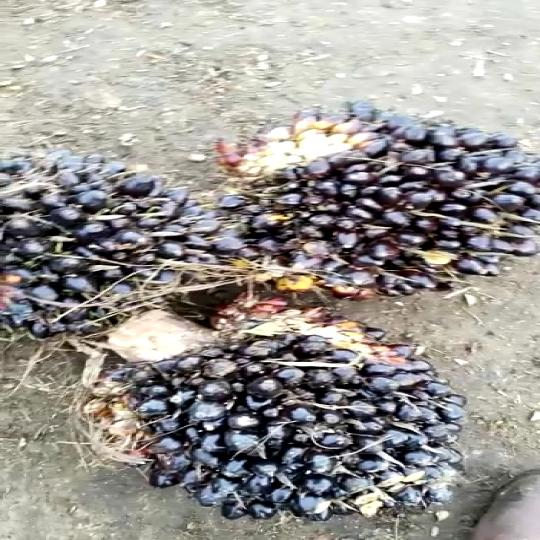mentah: (87, 310, 483, 532), (209, 95, 540, 288)
